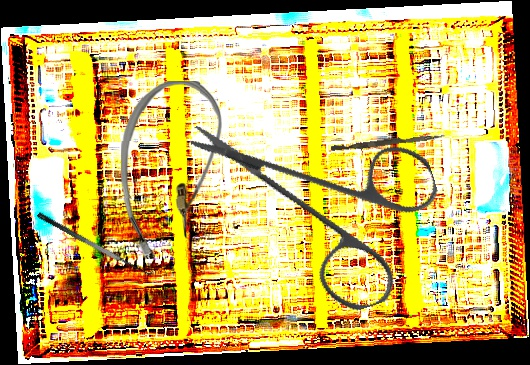Cannula: (119, 80, 223, 260)
Iris Scissors: (186, 61, 466, 344)
Pusher: (330, 130, 446, 154)
Spatula Surgical: (36, 202, 156, 282)
